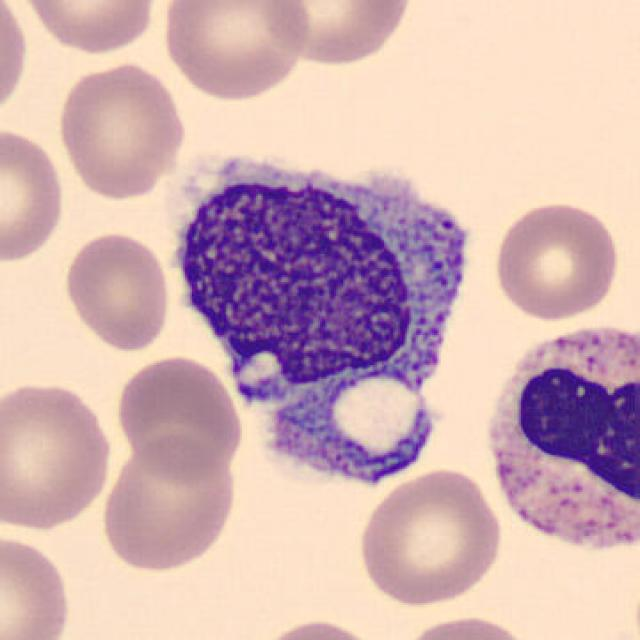Monocyte: (162, 134, 480, 476)
Neutrophil: (474, 315, 640, 571)
RBC: (352, 464, 507, 610), (96, 432, 240, 575), (54, 58, 190, 201), (0, 378, 116, 532), (112, 352, 245, 480), (489, 198, 622, 322), (158, 0, 313, 104), (59, 230, 174, 354), (260, 0, 416, 69), (0, 124, 68, 266), (0, 527, 75, 640), (14, 0, 162, 55), (394, 612, 538, 640), (0, 0, 30, 125), (249, 615, 387, 640)
